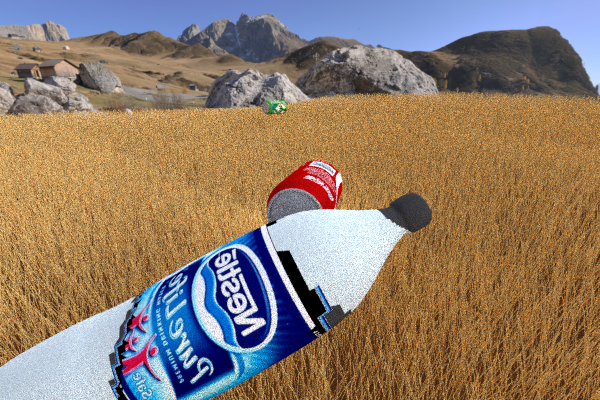Plastic Bottle: (0, 192, 431, 400), (266, 159, 342, 243), (261, 100, 287, 114)
